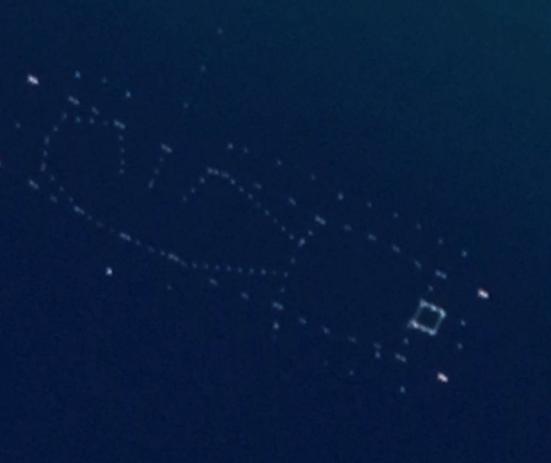square: (413, 292, 451, 339)
